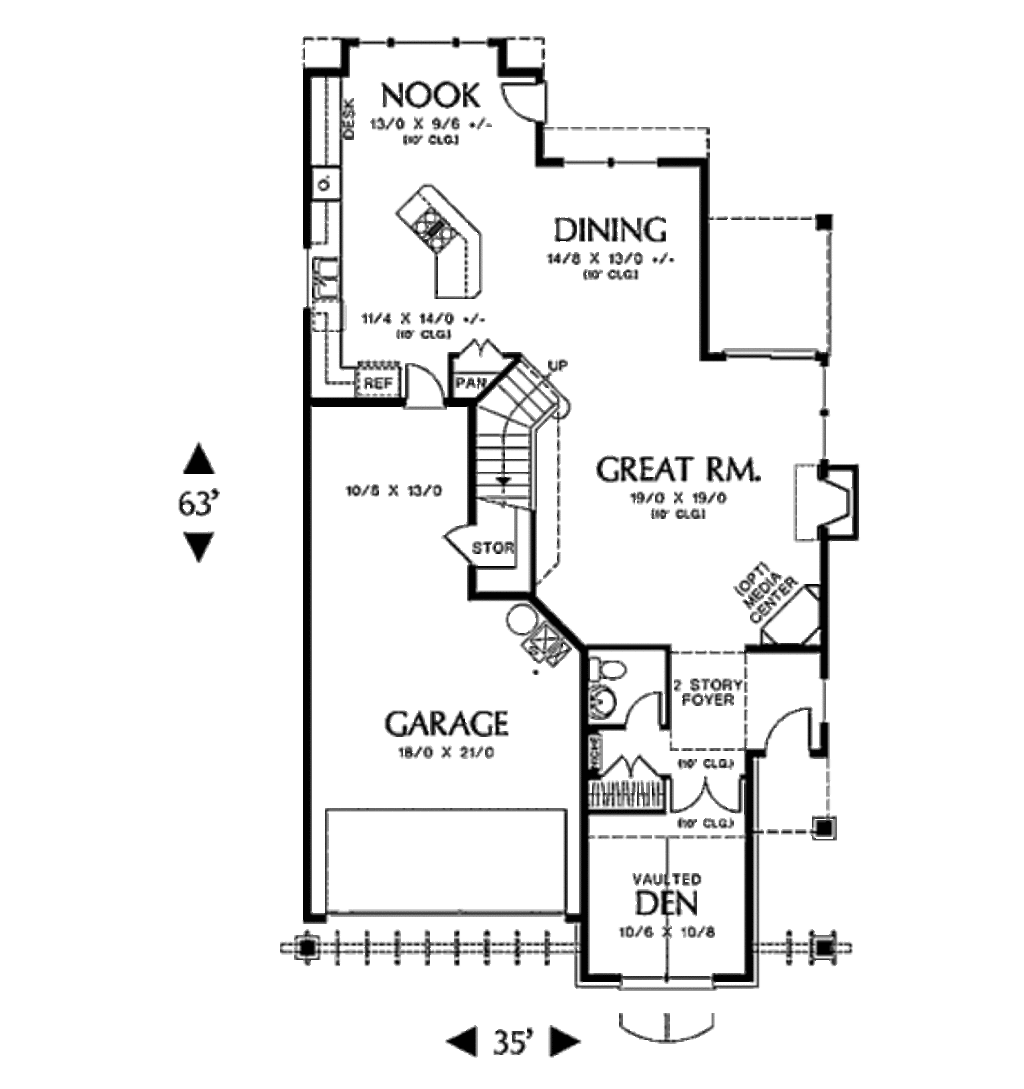door: (659, 760, 744, 824), (751, 702, 830, 768), (398, 348, 454, 419), (491, 80, 561, 133), (591, 750, 664, 789), (444, 523, 498, 572), (622, 682, 668, 729)
kitchen_bar: (373, 161, 500, 316)
large_sink: (585, 650, 632, 685)
small_sink: (586, 677, 620, 724)
stairs: (476, 351, 569, 516)
twin_sink: (298, 248, 356, 311)
window: (624, 968, 717, 997), (563, 155, 654, 172)
